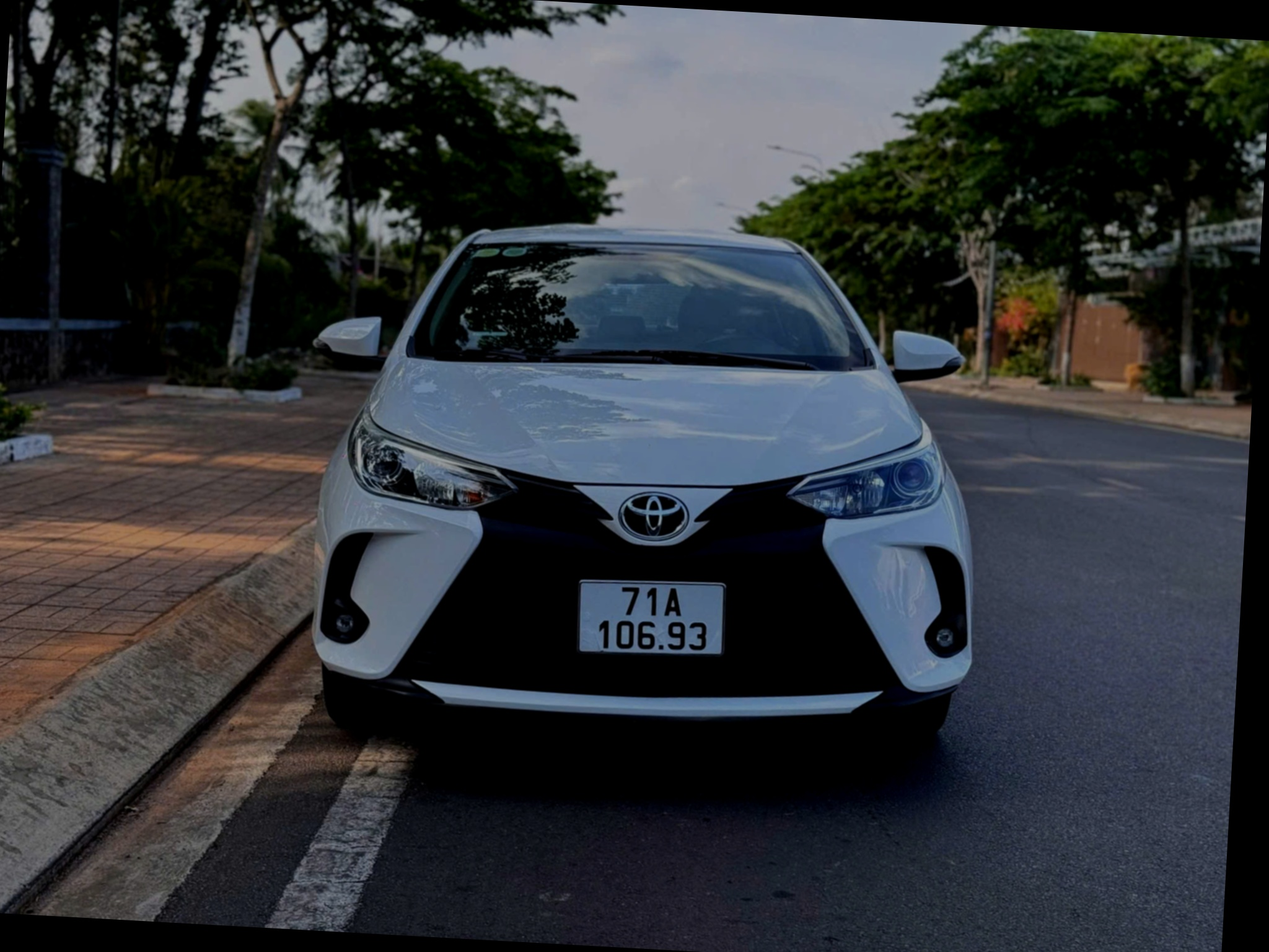Bien-so: (580, 578, 725, 659)
